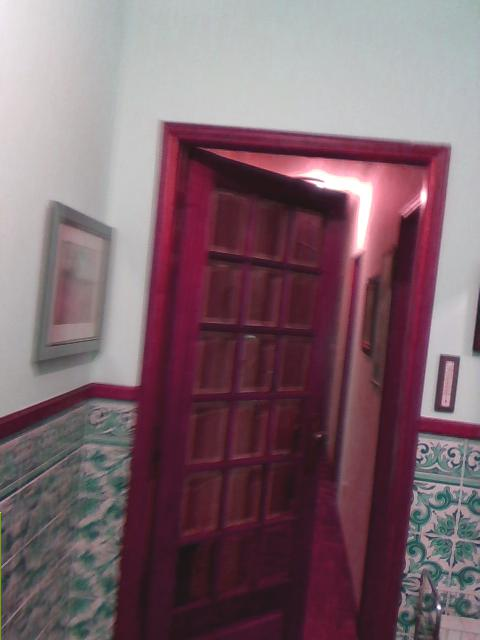semi_door: (112, 118, 454, 639)
